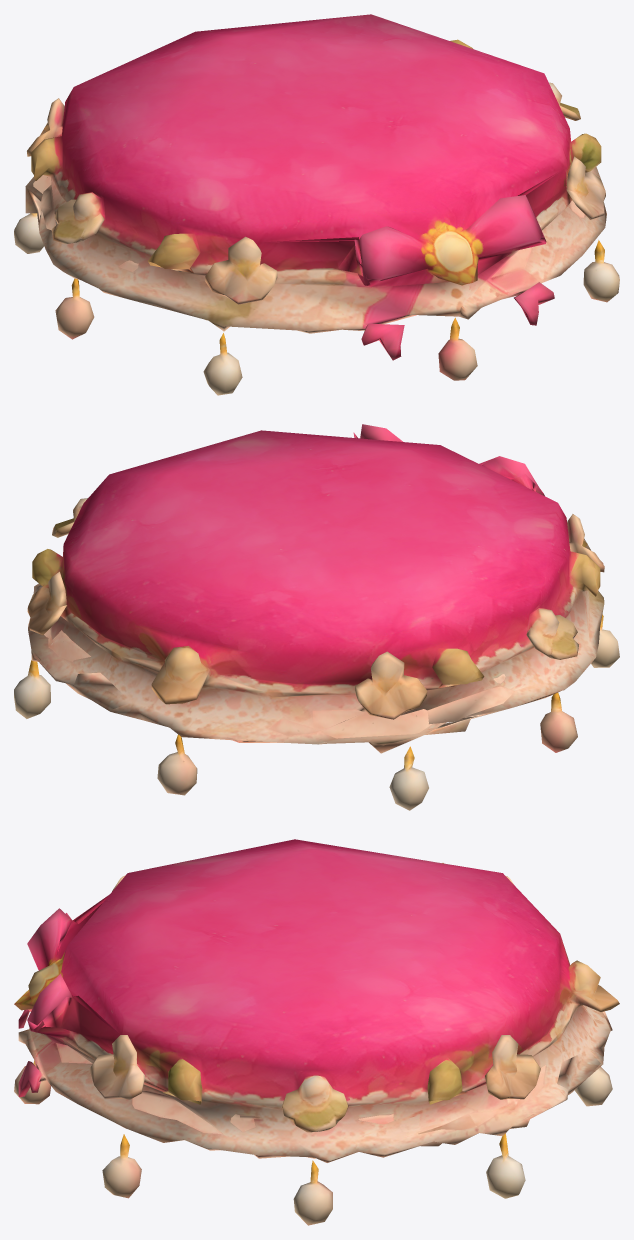
3 renders of one model, top to bottom at view 1: azimuth 30°, elevation 25°; view 2: azimuth 150°, elevation 25°; view 3: azimuth 270°, elevation 25°, orthographic.
Visible parts, largest first — view 1: tripo_node_e856f901; view 2: tripo_node_e856f901; view 3: tripo_node_e856f901.
Boxes of the visible parts, x1=… form: tripo_node_e856f901: x1=14, y1=14, x2=619, y2=395; tripo_node_e856f901: x1=14, y1=424, x2=619, y2=810; tripo_node_e856f901: x1=14, y1=839, x2=619, y2=1225.
Bounding box in the file's own units: 1 × 0.3281 × 0.9961.
1 material, 1 textured.
